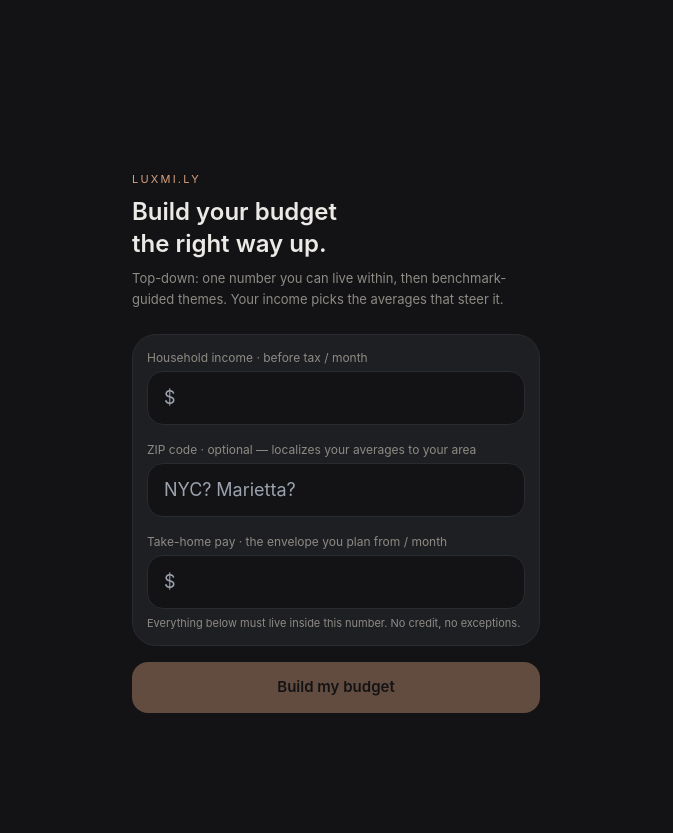
Test: App — an optimizer, not a tracker › sweeps the available bucket into the emergency buffer
Type "10000" into the number field named "Household income before tax per month" at {"x": 336, "y": 398}, box left=147, top=371, right=525, bottom=425
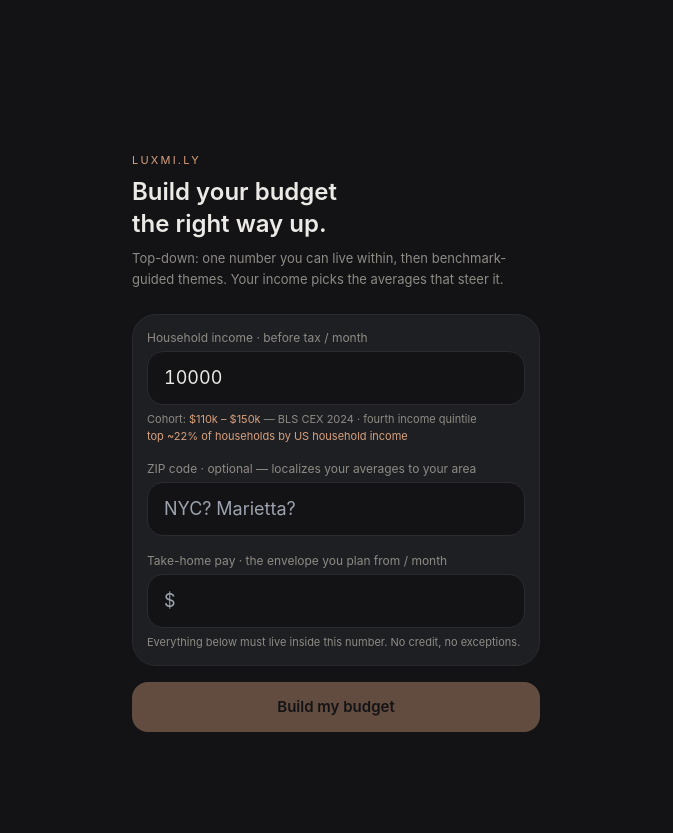
Type "6800" into the number field named "Take-home pay per month" at {"x": 336, "y": 601}, box left=147, top=574, right=525, bottom=628
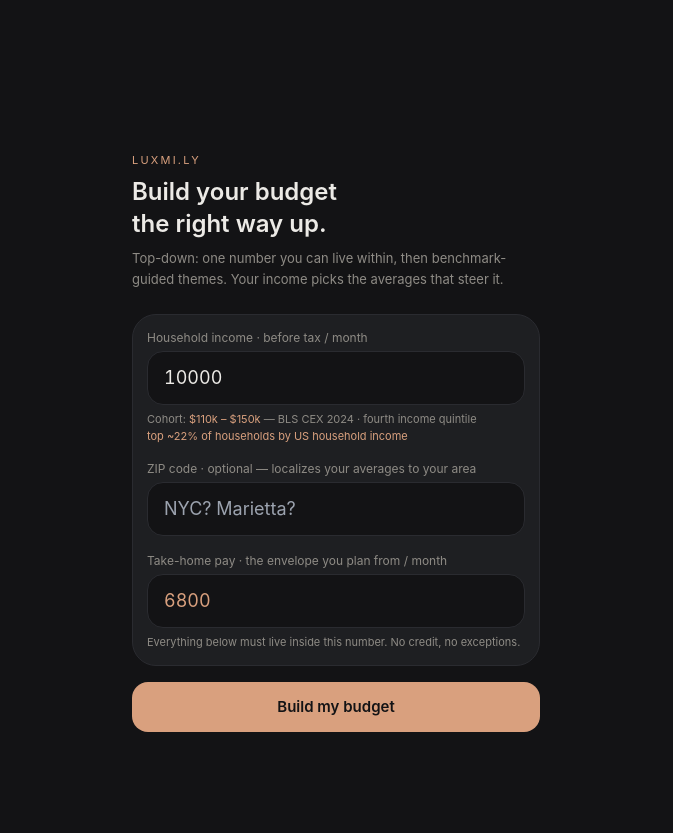
Click the button "Build my budget" at {"x": 336, "y": 707}, box left=132, top=682, right=540, bottom=732
(page scrolled)
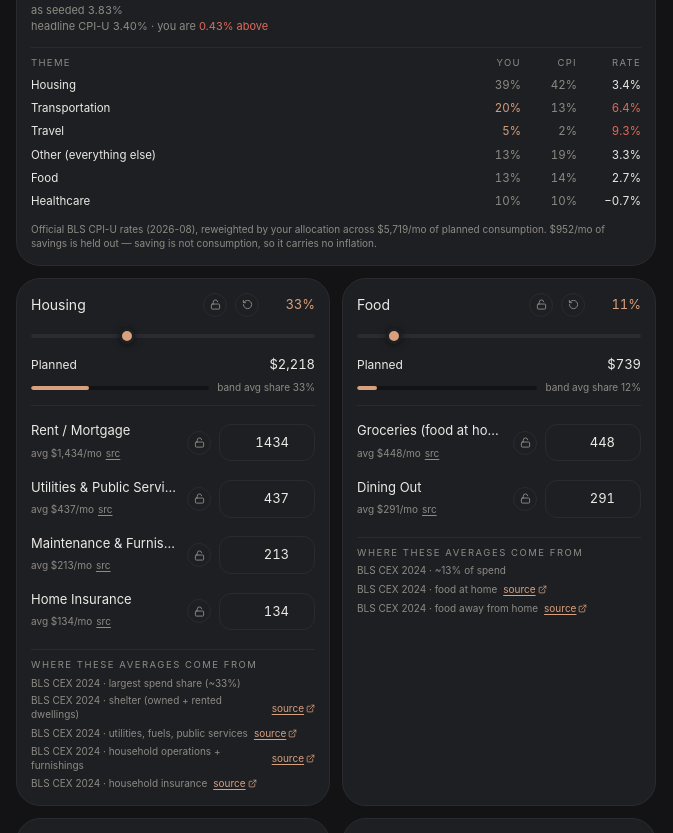
Replace the text in the number field named "Groceries (food at home) plan" with "10" at {"x": 593, "y": 443}, box left=545, top=424, right=641, bottom=461
(page scrolled)
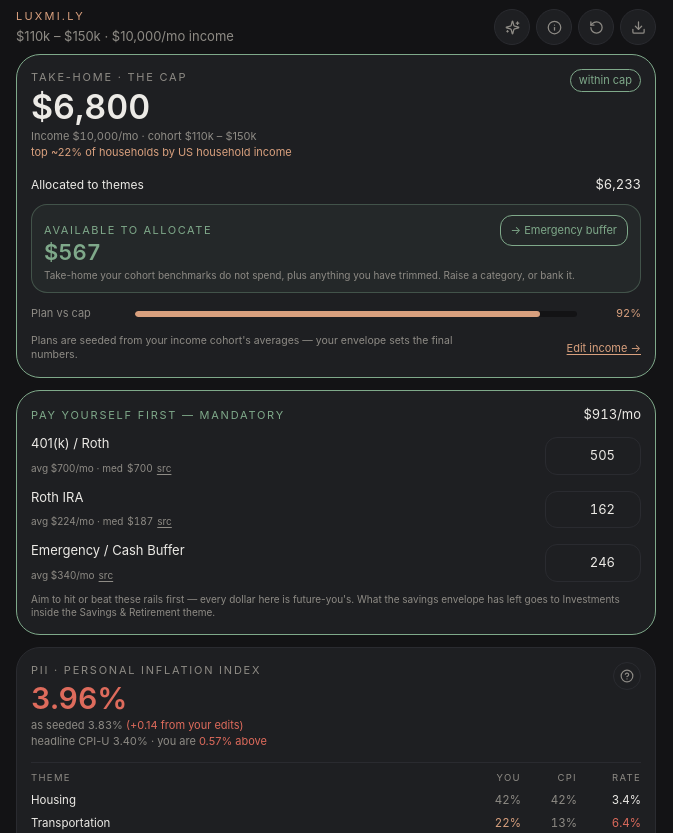
Click the button with aria-label "Sweep available cash to emergency buffer" at {"x": 564, "y": 230}, box left=500, top=215, right=628, bottom=246
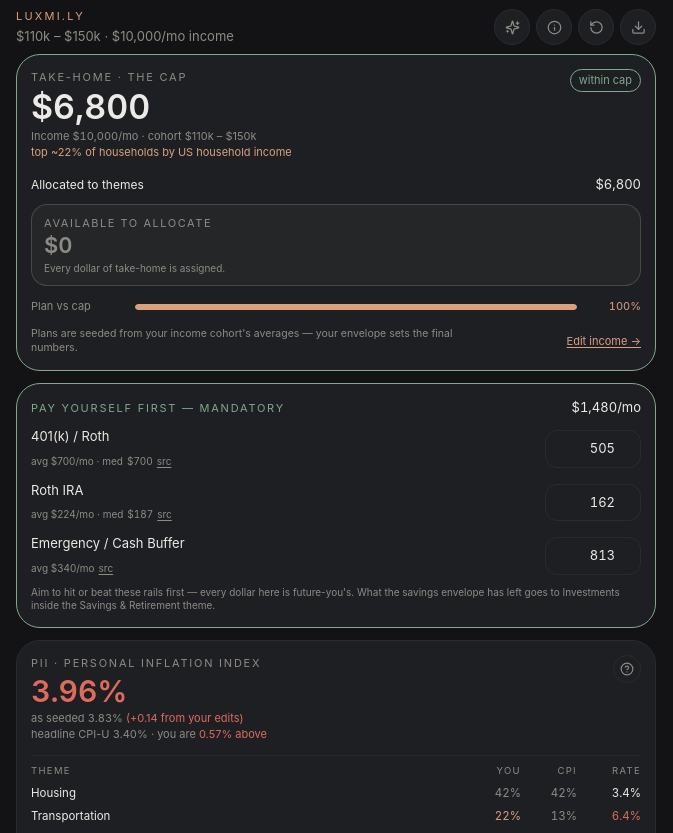
Now the message named "Unallocated" reads "$0", box left=44, top=232, right=72, bottom=258
